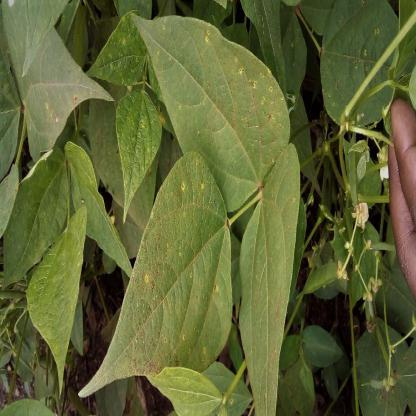Beans_Rust: (84, 148, 224, 401), (135, 15, 294, 211), (15, 31, 97, 158), (318, 0, 394, 127), (111, 92, 166, 211), (86, 12, 150, 86)
